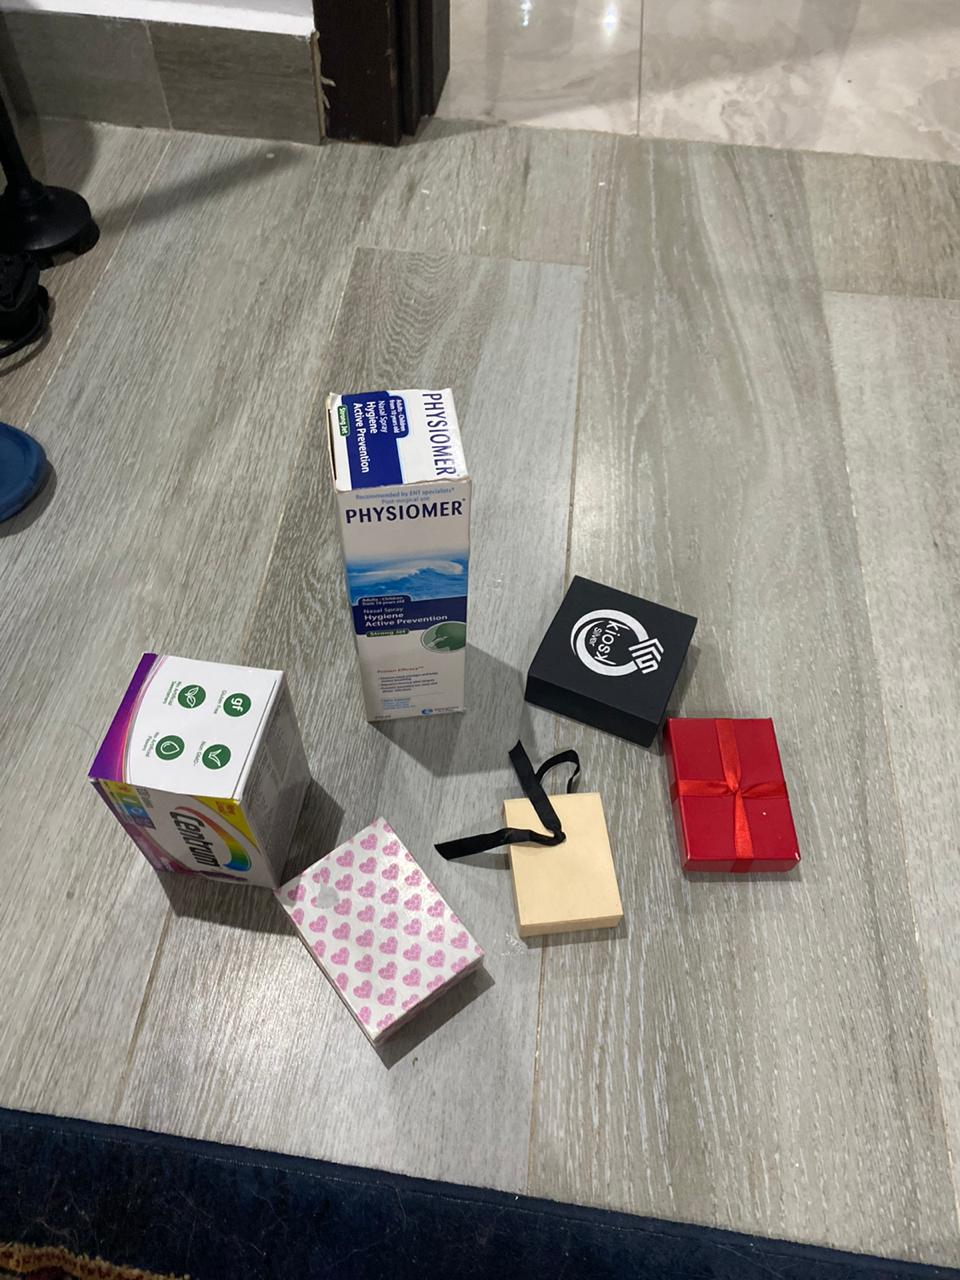Black Box: (669, 713, 799, 883)
Centrum: (79, 653, 314, 892)
Physiomer: (327, 386, 488, 724)
Pink Box: (276, 822, 494, 1055)
Red Box: (523, 575, 702, 750)
Yellow Box: (505, 789, 628, 938)
